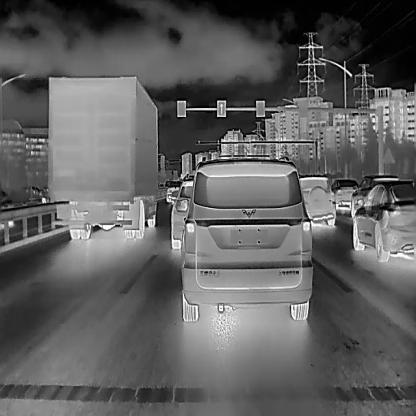car: (180, 158, 312, 321), (46, 76, 159, 238), (351, 179, 415, 262), (349, 172, 399, 219), (297, 175, 336, 225), (169, 179, 197, 248), (330, 177, 360, 212), (165, 179, 183, 202)
